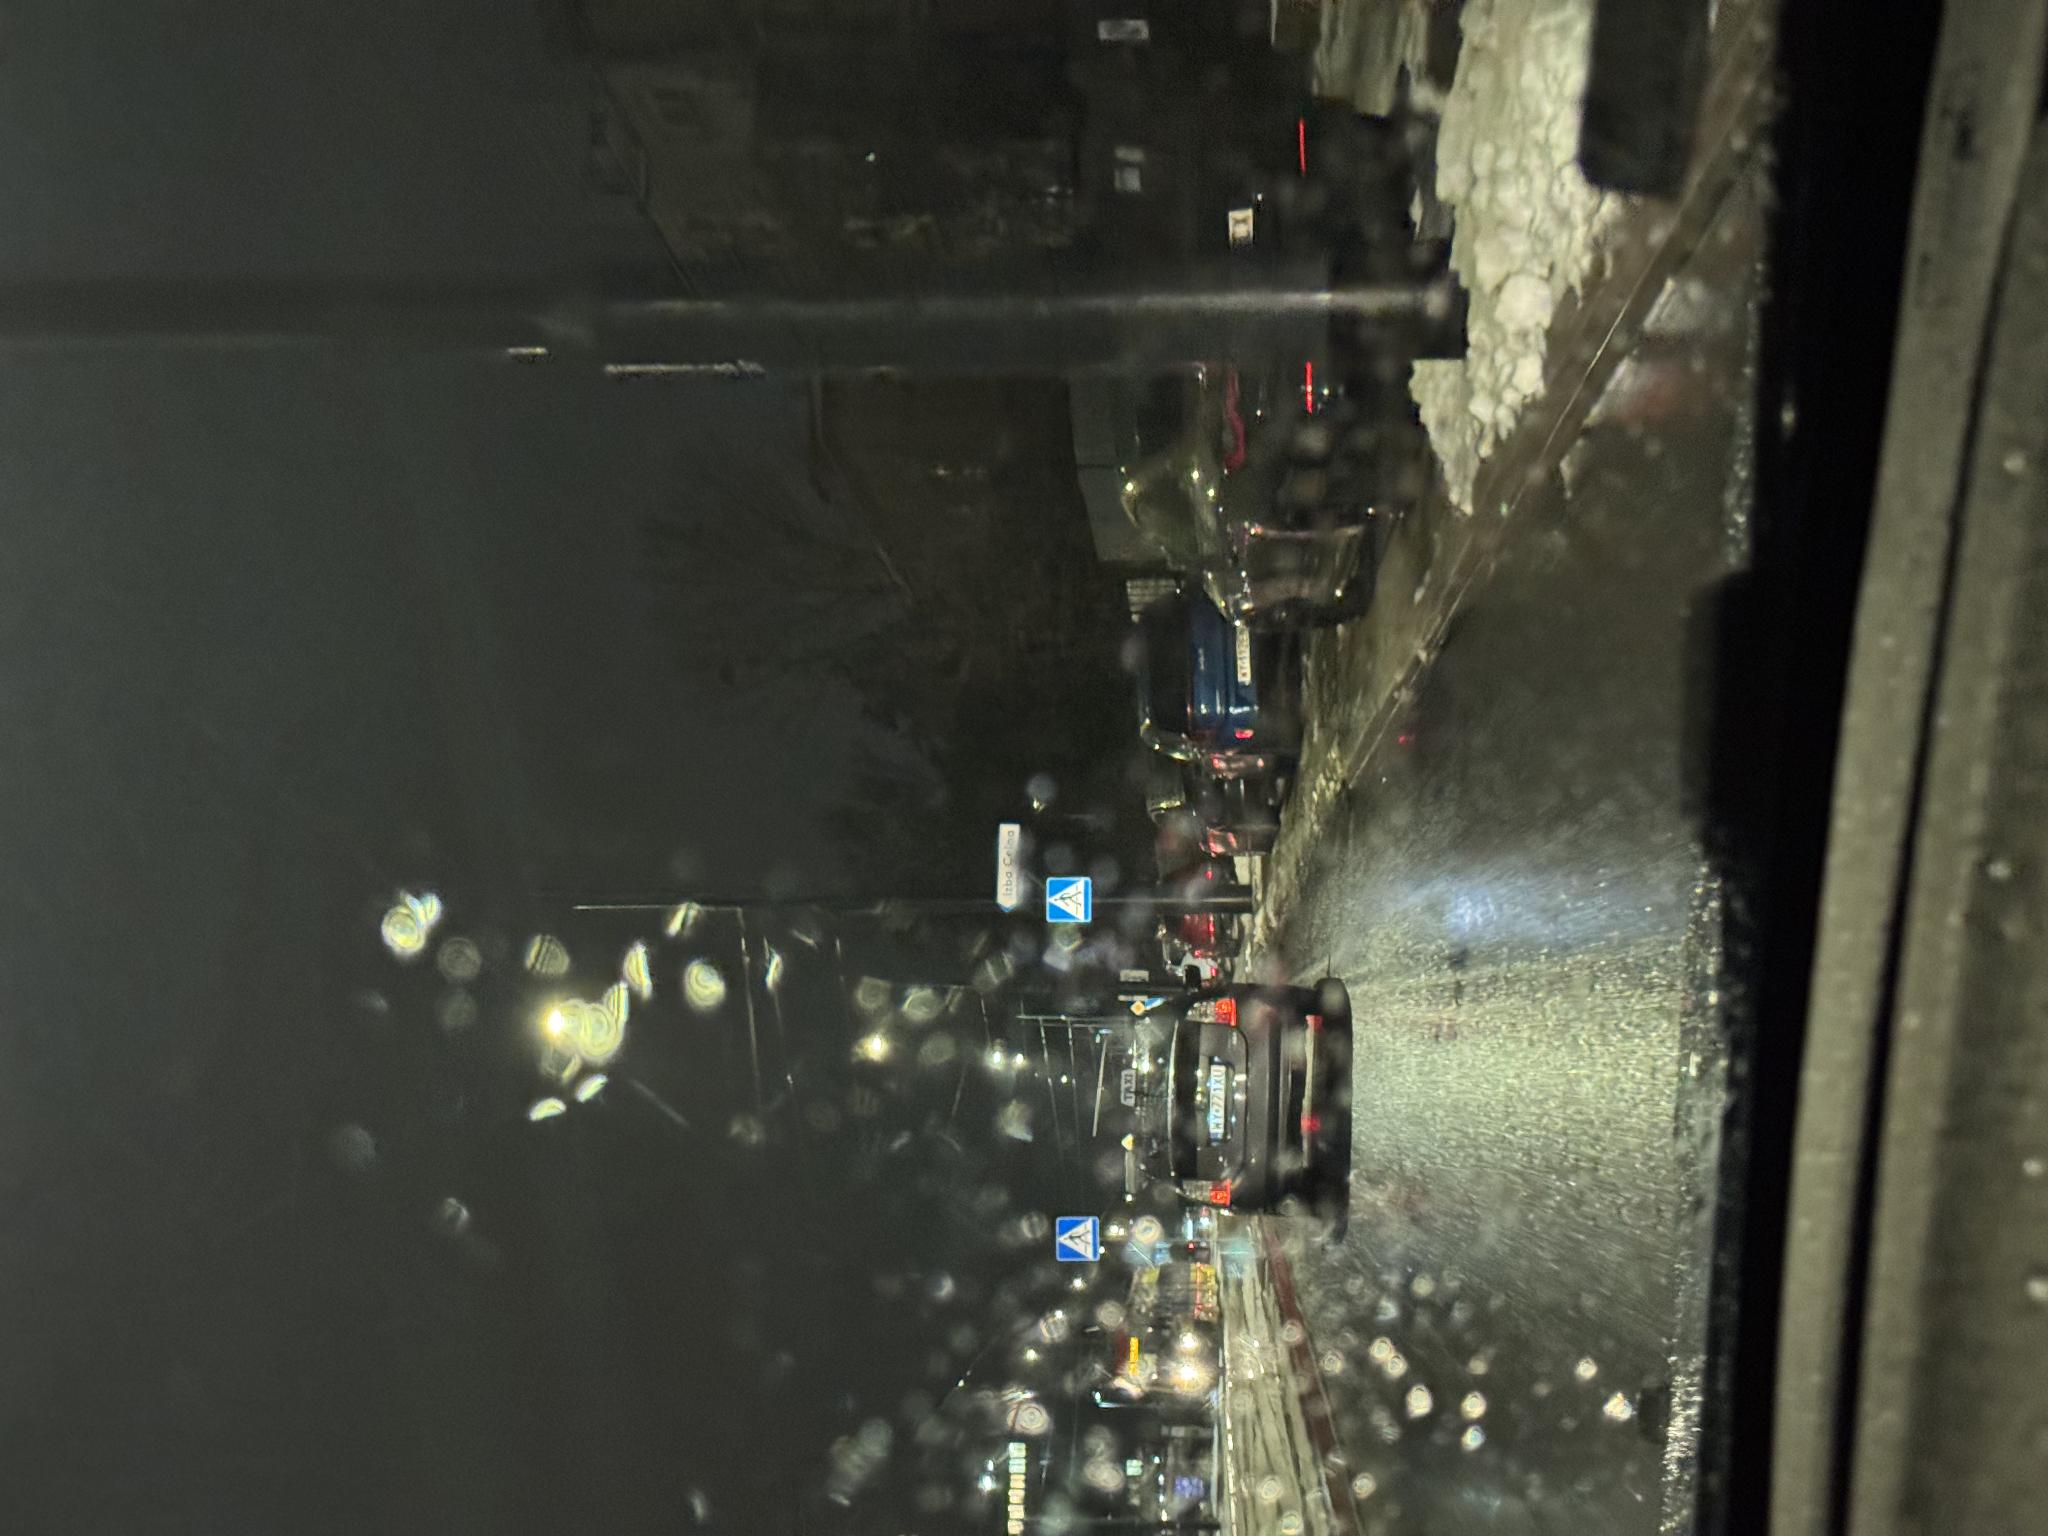direction-city: (622, 994, 713, 1021)
information: (613, 1046, 663, 1094), (274, 1057, 319, 1099)
